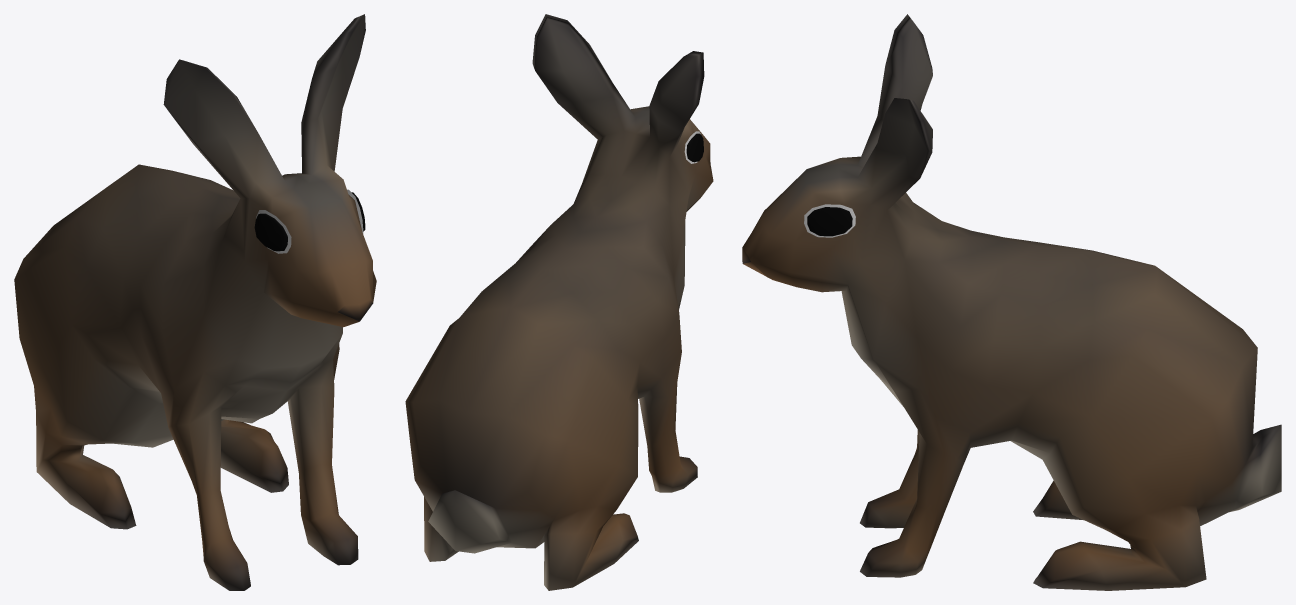
The model's file is Hare.gltf.
3 views of the same model, side by side, from view 1: azimuth 30°, elevation 25°; view 2: azimuth 150°, elevation 25°; view 3: azimuth 270°, elevation 25° (orthographic). The views are drawn at different scales.
Visible parts, largest first — view 1: base.036; view 2: base.036; view 3: base.036.
Part boxes in pixels (left/top/right/bottom): base.036: left=14, top=14, right=376, bottom=590; base.036: left=405, top=14, right=713, bottom=590; base.036: left=742, top=14, right=1281, bottom=590.
Bounding box in the file's own units: 0.1765 × 0.399 × 0.3973.
